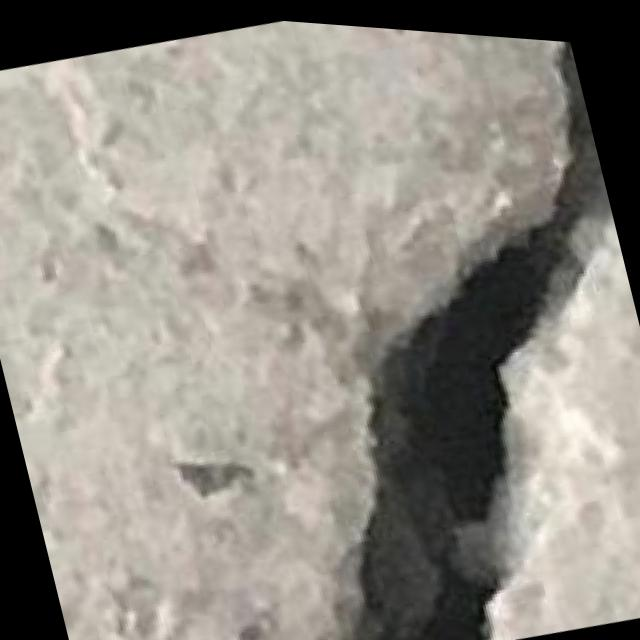Crack: (182, 11, 640, 640)
